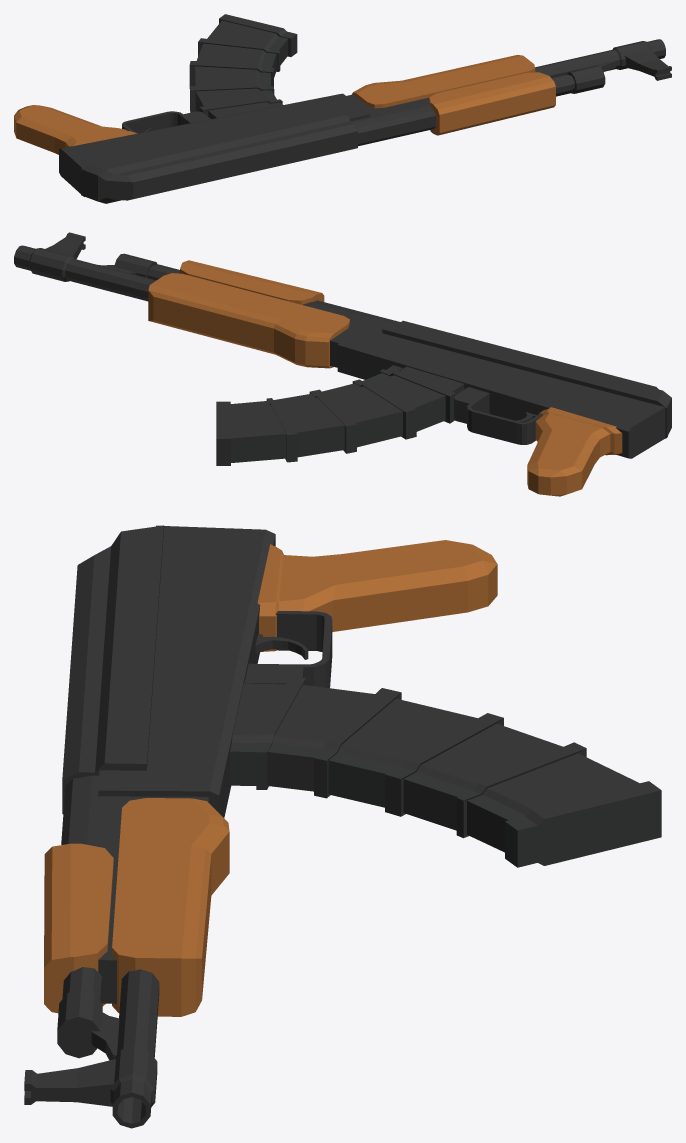
File: Guns_3.fbx
The picture shows the model from 3 angles, top to bottom: view 1: azimuth 30°, elevation 25°; view 2: azimuth 150°, elevation 25°; view 3: azimuth 270°, elevation 25°; orthographic projection. The views are drawn at different scales.
Visible parts, largest first — view 1: Gun-3; view 2: Gun-3; view 3: Gun-3.
Boxes of the visible parts, box(x1,y1,x2,y2) form: Gun-3: box(14, 14, 671, 203); Gun-3: box(14, 232, 671, 496); Gun-3: box(24, 525, 661, 1128).
Size of the model in its own units: 2.13 by 0.1218 by 1.03.
